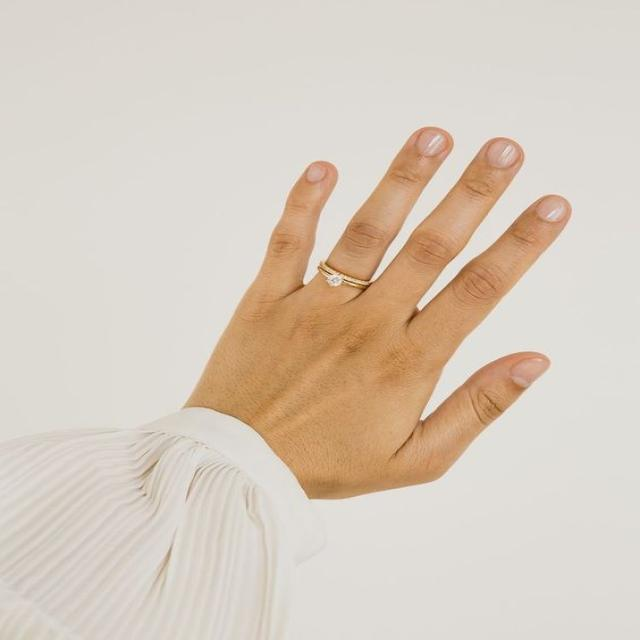Fingernail: (510, 359, 548, 388), (536, 195, 569, 223), (489, 141, 519, 170), (416, 130, 447, 156), (305, 165, 325, 181)
